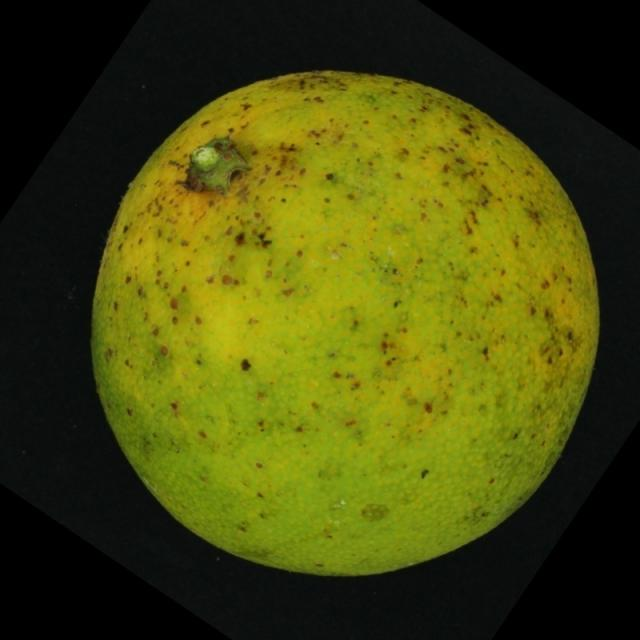grenning: (80, 50, 614, 590)
